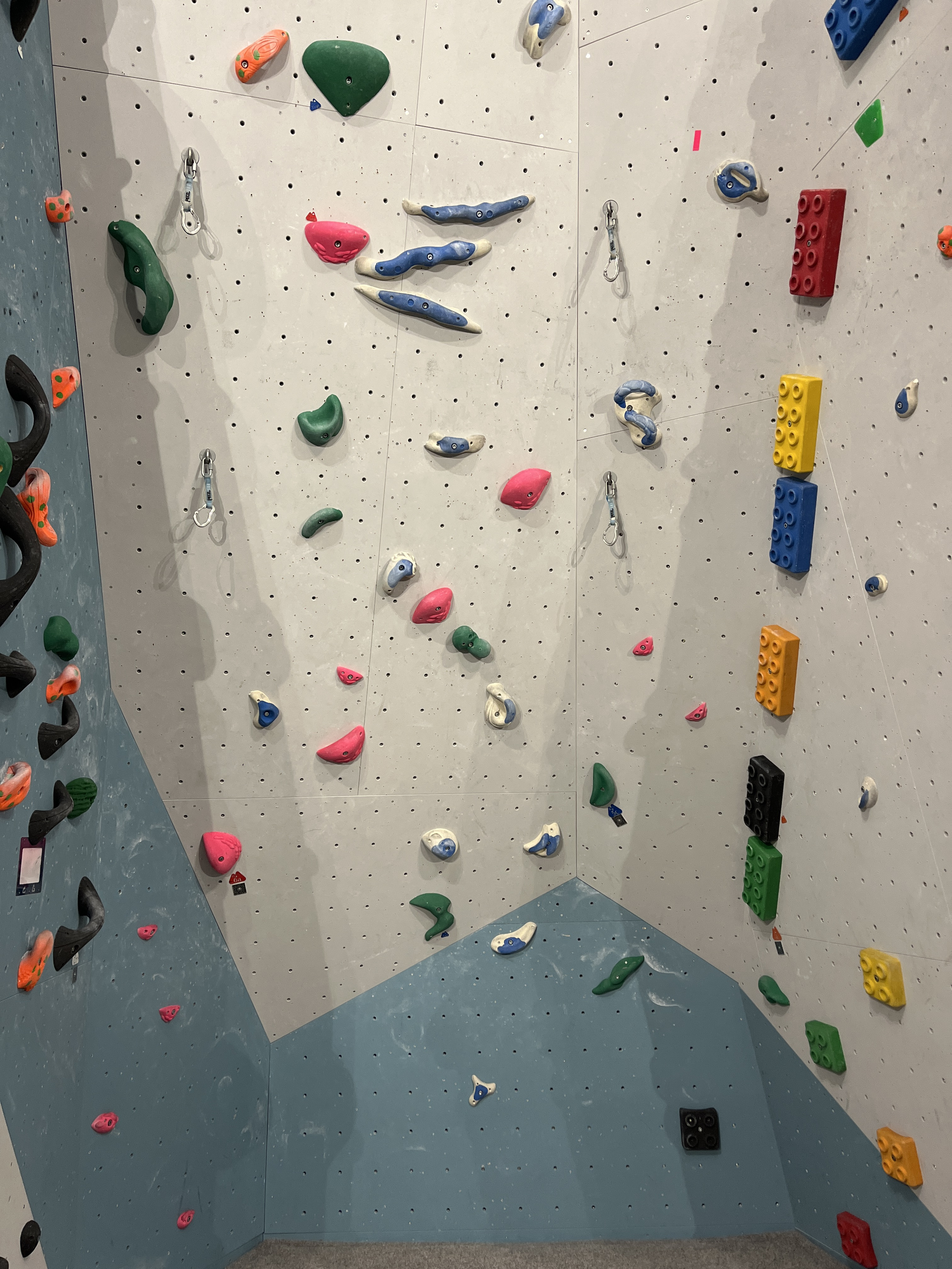hold: (108, 221, 174, 335), (354, 285, 481, 333), (303, 42, 386, 115), (791, 190, 845, 297), (4, 357, 49, 481), (0, 483, 37, 624), (355, 240, 490, 278), (54, 877, 104, 971), (774, 375, 821, 472), (771, 478, 815, 575), (827, 2, 894, 59), (403, 195, 534, 224), (757, 626, 797, 716), (745, 755, 783, 843), (17, 467, 57, 546), (743, 837, 781, 920), (614, 380, 660, 448), (522, 0, 571, 59), (29, 781, 73, 845), (305, 221, 369, 263), (876, 1128, 922, 1186), (37, 697, 80, 759), (236, 29, 287, 81), (860, 948, 902, 1005), (17, 930, 54, 991), (715, 159, 768, 201), (297, 394, 343, 442), (410, 893, 455, 941), (805, 1021, 845, 1073), (837, 1211, 874, 1266), (502, 467, 549, 505), (595, 954, 640, 993), (317, 725, 362, 761), (680, 1108, 719, 1148), (490, 922, 536, 955), (383, 552, 417, 595), (43, 616, 77, 658), (412, 586, 450, 623), (2, 650, 33, 694), (65, 777, 97, 819), (204, 833, 240, 870), (855, 99, 882, 147), (523, 822, 560, 857), (2, 763, 29, 807), (8, 2, 37, 42), (45, 664, 77, 700), (301, 507, 339, 537), (452, 626, 489, 656), (485, 686, 513, 725), (428, 436, 481, 456), (422, 829, 458, 856), (591, 763, 614, 805), (51, 367, 77, 402), (757, 975, 787, 1005), (469, 1074, 496, 1106), (896, 380, 916, 416), (45, 192, 69, 220), (19, 1221, 37, 1257), (256, 697, 278, 725), (860, 777, 876, 807), (337, 666, 361, 684), (93, 1114, 115, 1132), (938, 226, 950, 256), (632, 638, 652, 654), (866, 577, 887, 592), (686, 703, 704, 719), (178, 1211, 192, 1227), (160, 1005, 176, 1019), (139, 926, 155, 938)
